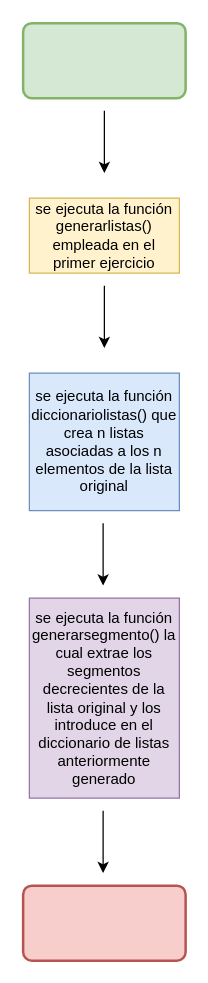
Some shapes in this 208 by 983 pixel diagram are drawn without their labels. Here are the shapes that lost their labels. From the top down, the centre of each, then its label:
At pixel 103 60: "INICIO".
At pixel 103 922: "STOP".
